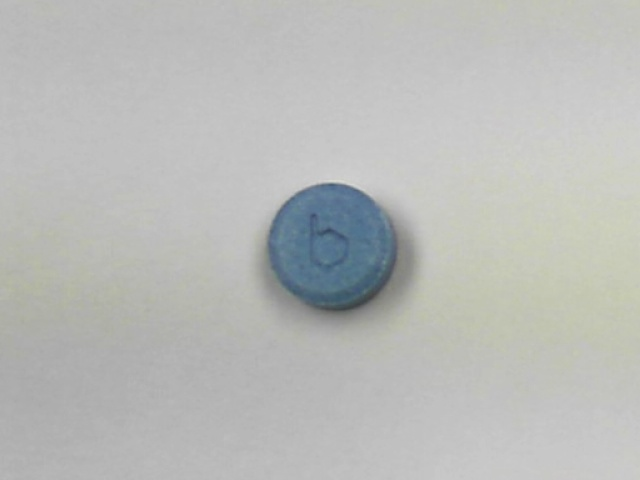b: (303, 205, 357, 276)
